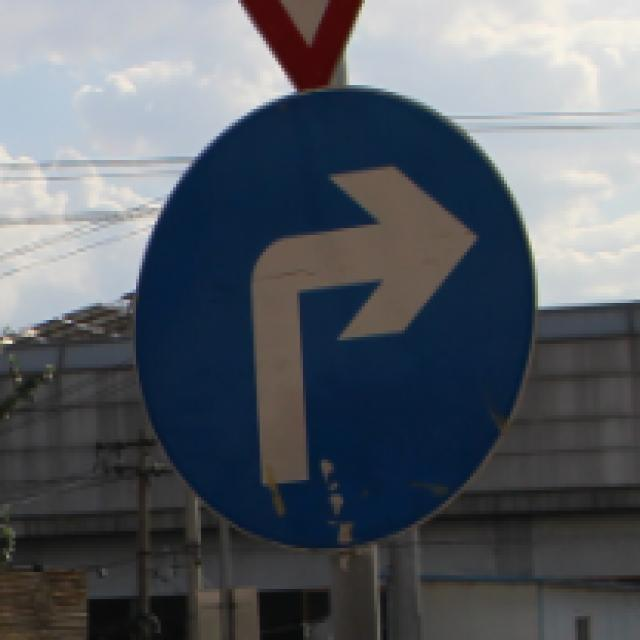Right: (130, 81, 550, 558)
